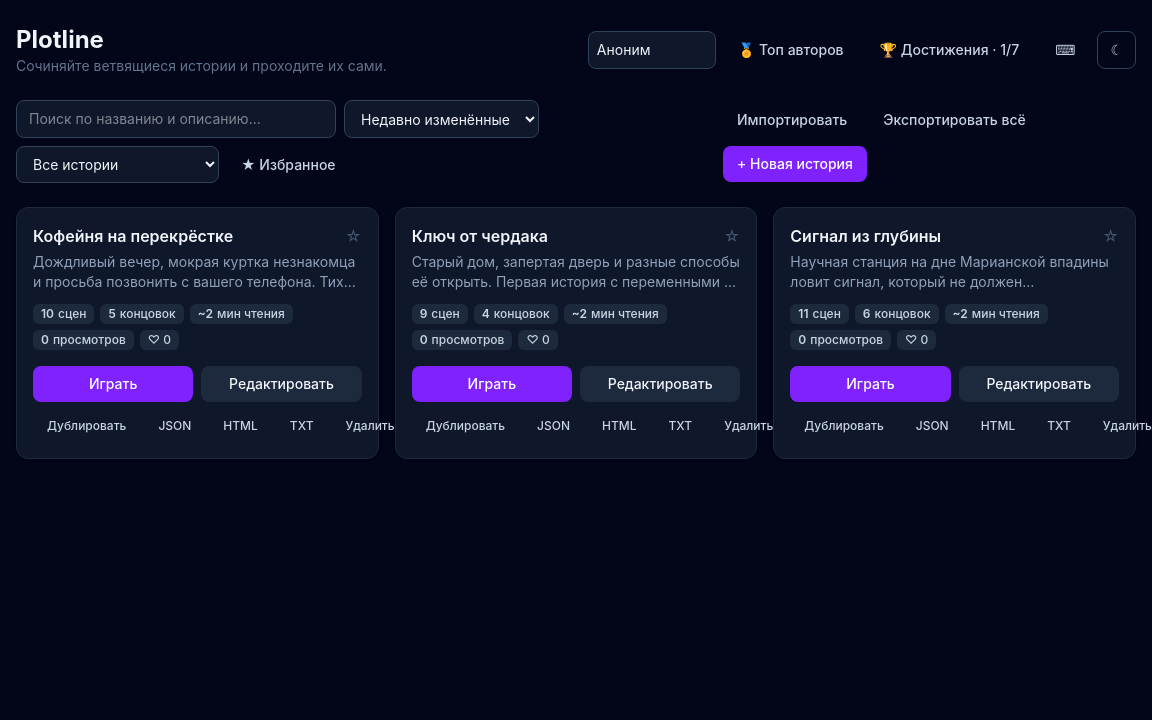
Test: App › opens and closes the overlay via the header button and Escape
Click the button named "Горячие клавиши" at point(1065, 50), box [1041,32,1089,68]
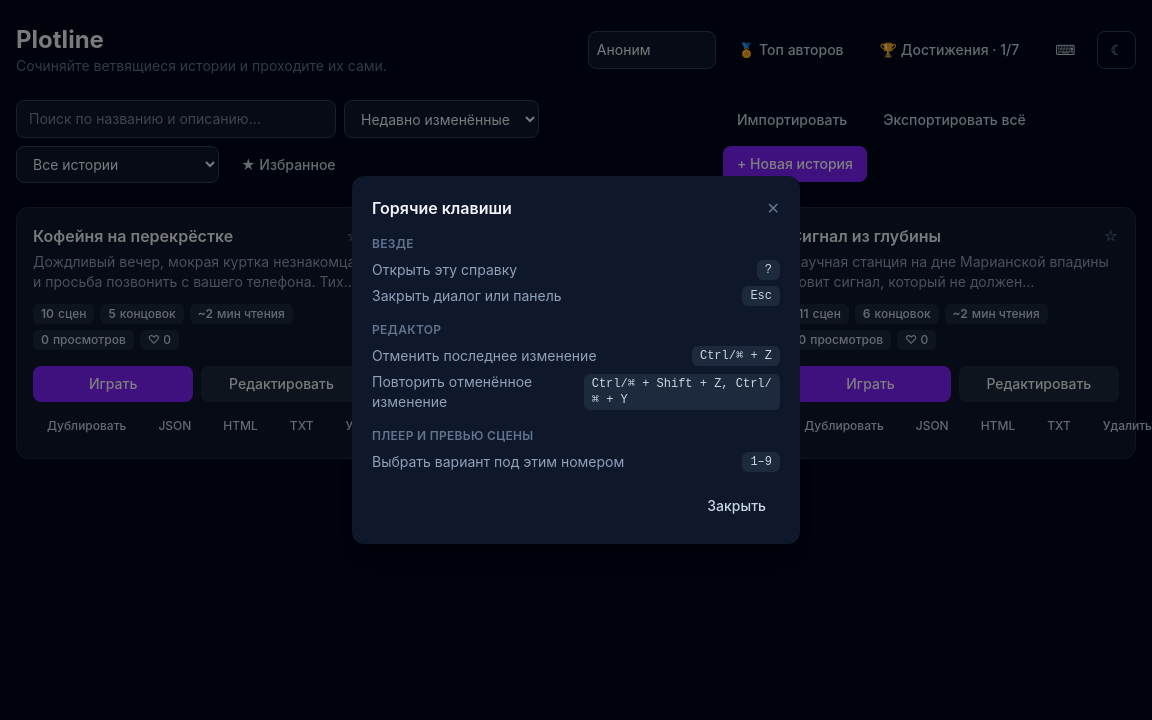
Expected: the heading "Горячие клавиши" is shown, [372,196,512,220]
Press Escape
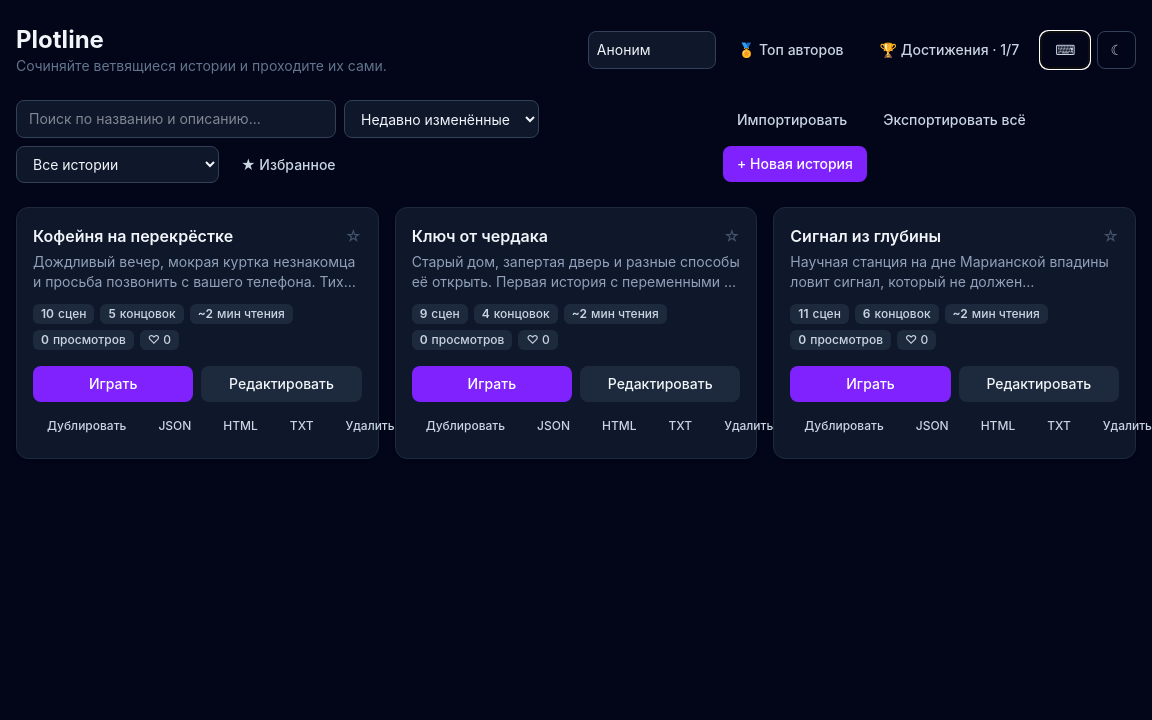
Expected: the heading "Горячие клавиши" is gone
